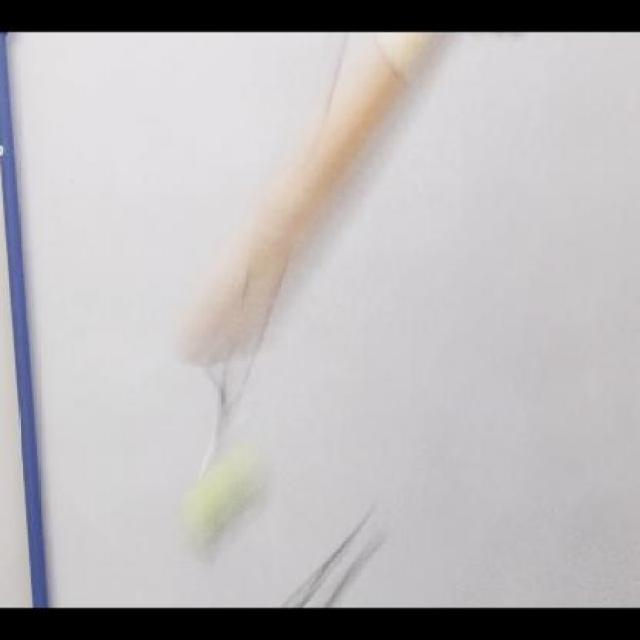baseball: (178, 430, 274, 548)
